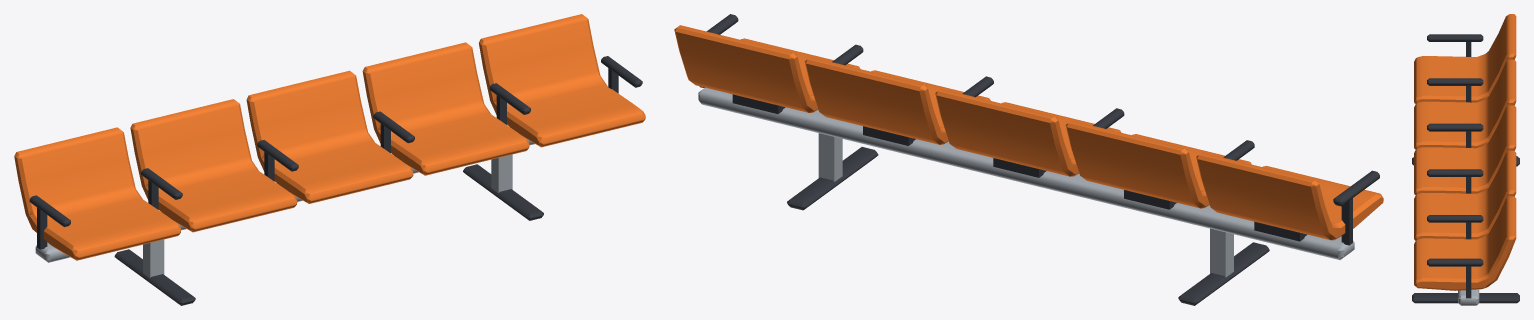
The model's file is BancoEspera.fbx.
3 views of the same model, side by side, from view 1: azimuth 30°, elevation 25°; view 2: azimuth 150°, elevation 25°; view 3: azimuth 270°, elevation 25° (orthographic). The views are drawn at different scales.
Parts seen in each view (by area): view 1: BancoEspera; view 2: BancoEspera; view 3: BancoEspera.
Part boxes in pixels (<box>): BancoEspera: <box>14,14,645,305</box>; BancoEspera: <box>674,14,1383,305</box>; BancoEspera: <box>1412,14,1519,305</box>.
Size of the model in its own units: 10 by 2.2 by 2.
Materials: 1 (1 with a texture image).
